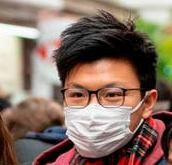OK: (64, 73, 134, 160)
